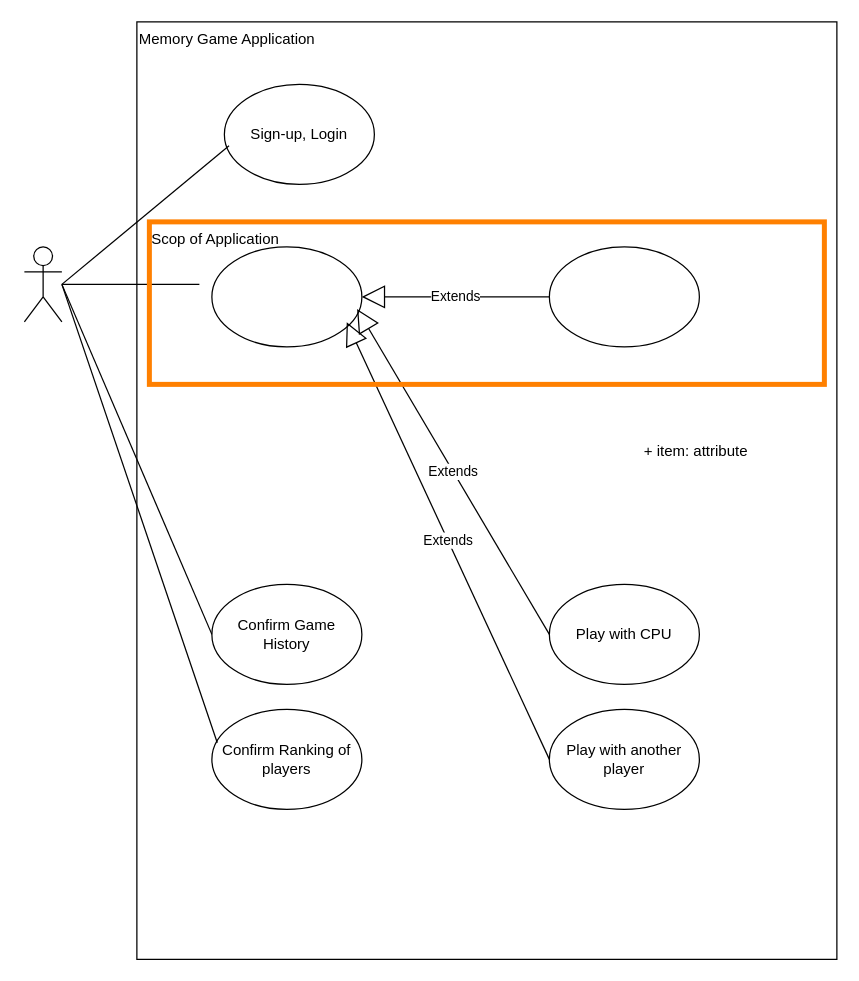
The diagram is 859 pixels wide and 981 high, and some of its shapes have lost their labels. The centre of each missing label's shape, as x and y in pixels:
Play game: the point at 286,296
Player: the point at 42,284
Turn card: the point at 623,296
